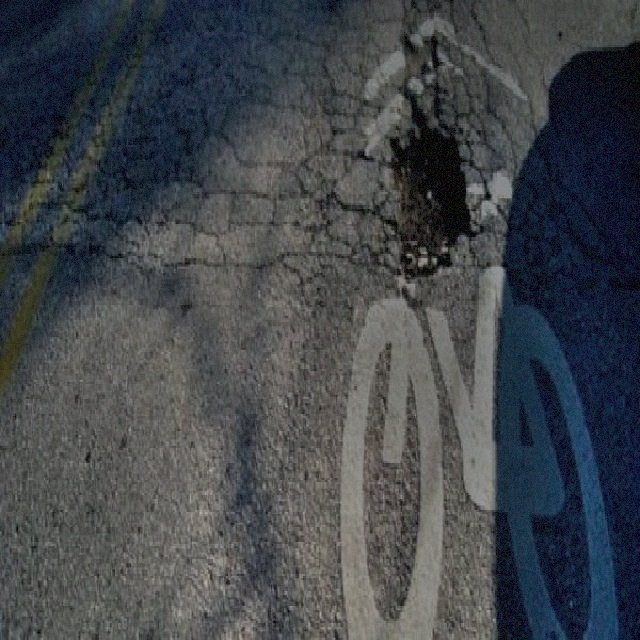pothole: (378, 109, 476, 292)
